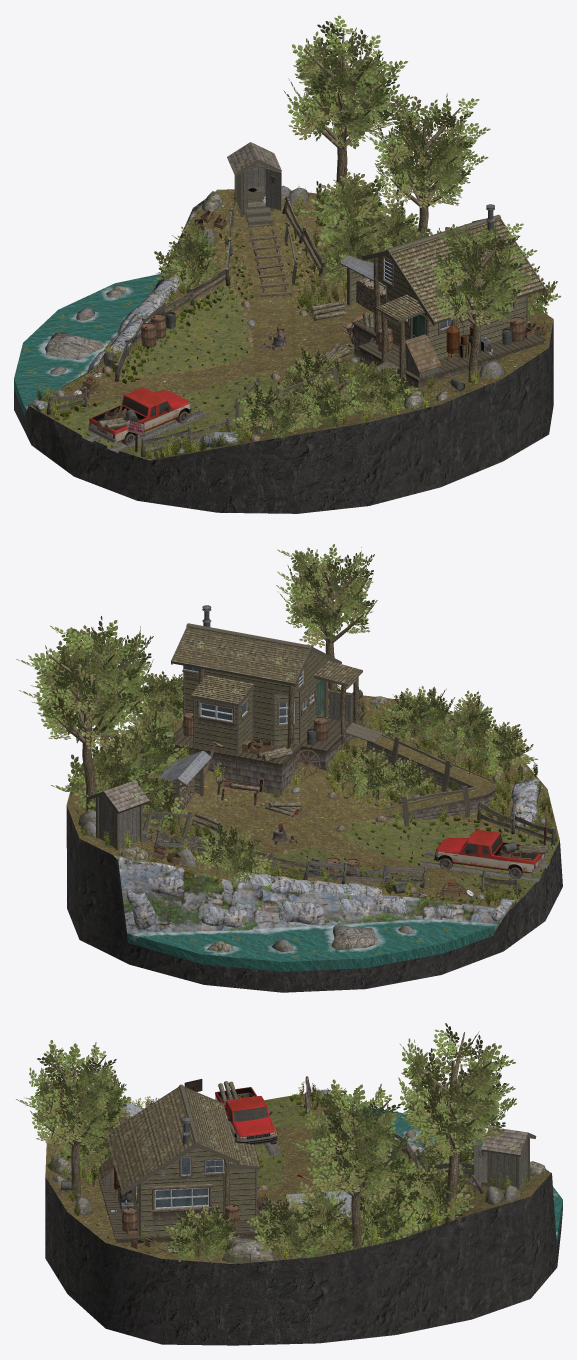
The model's file is forest-loner-diorama.glb.
3 renders of one model, top to bottom at view 1: azimuth 30°, elevation 25°; view 2: azimuth 150°, elevation 25°; view 3: azimuth 270°, elevation 25°, orthographic. The views are drawn at different scales.
Parts seen in each view (by area): view 1: Plants_01_sh, SideGround_01_sh, PathGround_01_sh, Grass_01_sh, BuildingHirozontalTextures_01_sh, WaterDriveway_01_sh, Rocks_01_sh, TreeBark_01_sh, RoofTileTilable_01_sh, Saw_Fence_01_sh1, Buildings_Details_01_sh, HorizontalWood_01_sh (+9 smaller); view 2: Plants_01_sh, PathGround_01_sh, SideGround_01_sh, BuildingHirozontalTextures_01_sh, WaterDriveway_01_sh, HorizontalGroundPlaneTextures_01_sh, Rocks_01_sh, RoofTileTilable_01_sh, Grass_01_sh, HorizontalWood_01_sh, Saw_Fence_01_sh1, TreeBark_01_sh (+9 smaller); view 3: SideGround_01_sh, Plants_01_sh, PathGround_01_sh, RoofTileTilable_01_sh, BuildingHirozontalTextures_01_sh, TreeBark_01_sh, HorizontalWood_01_sh, Rocks_01_sh, Grass_01_sh, Buildings_Details_01_sh, FordF150_01_sh, HirozontalWood_01_SH (+9 smaller).
Boxes of the visible parts, box(x1,y1,x2,y2) form: Plants_01_sh: box(23, 15, 561, 458); SideGround_01_sh: box(14, 320, 553, 513); PathGround_01_sh: box(30, 189, 553, 460); Grass_01_sh: box(53, 287, 328, 459); BuildingHirozontalTextures_01_sh: box(227, 142, 545, 434); WaterDriveway_01_sh: box(14, 274, 209, 452); Rocks_01_sh: box(27, 185, 503, 454); TreeBark_01_sh: box(167, 29, 541, 431); RoofTileTilable_01_sh: box(373, 219, 543, 321); Saw_Fence_01_sh1: box(46, 198, 324, 457); Buildings_Details_01_sh: box(248, 175, 511, 373); HorizontalWood_01_sh: box(248, 192, 526, 359); Plants_01_sh: box(16, 544, 557, 958); PathGround_01_sh: box(66, 693, 559, 909); SideGround_01_sh: box(66, 805, 562, 992); BuildingHirozontalTextures_01_sh: box(88, 623, 495, 850); WaterDriveway_01_sh: box(127, 850, 549, 971); HorizontalGroundPlaneTextures_01_sh: box(113, 855, 508, 939); Rocks_01_sh: box(78, 696, 548, 952); RoofTileTilable_01_sh: box(172, 627, 362, 704); Grass_01_sh: box(187, 818, 558, 895); HorizontalWood_01_sh: box(159, 652, 326, 822); Saw_Fence_01_sh1: box(142, 741, 555, 899); TreeBark_01_sh: box(42, 554, 515, 870); SideGround_01_sh: box(45, 1173, 562, 1345); Plants_01_sh: box(16, 1023, 545, 1263); PathGround_01_sh: box(45, 1094, 551, 1264); RoofTileTilable_01_sh: box(106, 1088, 260, 1190); BuildingHirozontalTextures_01_sh: box(99, 1084, 536, 1245); TreeBark_01_sh: box(38, 1032, 498, 1256); HorizontalWood_01_sh: box(131, 1148, 345, 1246); Rocks_01_sh: box(47, 1089, 546, 1263); Grass_01_sh: box(254, 1095, 425, 1194); Buildings_Details_01_sh: box(98, 1117, 486, 1217); FordF150_01_sh: box(215, 1087, 277, 1144); HirozontalWood_01_SH: box(102, 1138, 527, 1188).
Bounding box in the file's own units: 2276 × 1326 × 2369.
25 materials, 24 textured.
